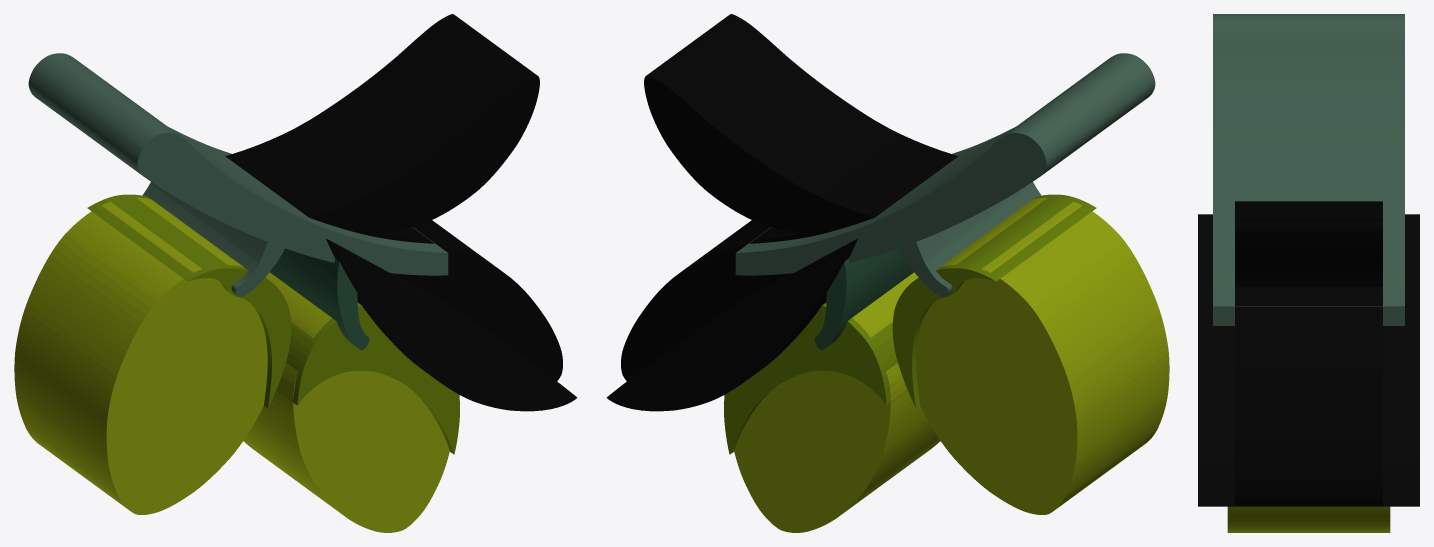
Rendered from U+1FAD2.obj.
The picture shows the model from 3 angles, left to right: view 1: azimuth 30°, elevation 25°; view 2: azimuth 150°, elevation 25°; view 3: azimuth 270°, elevation 25°; orthographic projection. The views are drawn at different scales.
Parts seen in each view (by area): view 1: U+1FAD2_layer01_obj00, U+1FAD2_layer00_obj00, U+1FAD2_layer01_obj01, U+1FAD2_layer03_obj00, U+1FAD2_layer05_obj00, U+1FAD2_layer00_obj01, U+1FAD2_layer02_obj00, U+1FAD2_layer02_obj01, U+1FAD2_layer03_obj01, U+1FAD2_layer04_obj00; view 2: U+1FAD2_layer01_obj00, U+1FAD2_layer00_obj00, U+1FAD2_layer01_obj01, U+1FAD2_layer03_obj00, U+1FAD2_layer05_obj00, U+1FAD2_layer00_obj01, U+1FAD2_layer02_obj00, U+1FAD2_layer02_obj01, U+1FAD2_layer03_obj01, U+1FAD2_layer04_obj00; view 3: U+1FAD2_layer03_obj00, U+1FAD2_layer00_obj01, U+1FAD2_layer05_obj00, U+1FAD2_layer00_obj00, U+1FAD2_layer01_obj01.
Boxes of the visible parts, x1,y1,x2,y2 form: U+1FAD2_layer01_obj00: (14, 197, 267, 514); U+1FAD2_layer00_obj00: (225, 14, 539, 234); U+1FAD2_layer01_obj01: (243, 272, 449, 532); U+1FAD2_layer03_obj00: (28, 53, 448, 275); U+1FAD2_layer05_obj00: (326, 238, 577, 411); U+1FAD2_layer00_obj01: (352, 220, 562, 380); U+1FAD2_layer02_obj00: (276, 303, 459, 454); U+1FAD2_layer02_obj01: (87, 194, 291, 408); U+1FAD2_layer03_obj01: (142, 182, 292, 297); U+1FAD2_layer04_obj00: (270, 248, 369, 349); U+1FAD2_layer01_obj00: (916, 197, 1169, 514); U+1FAD2_layer00_obj00: (644, 14, 958, 234); U+1FAD2_layer01_obj01: (734, 272, 940, 532); U+1FAD2_layer03_obj00: (735, 53, 1155, 275); U+1FAD2_layer05_obj00: (606, 238, 857, 411); U+1FAD2_layer00_obj01: (621, 220, 823, 380); U+1FAD2_layer02_obj00: (724, 303, 907, 454); U+1FAD2_layer02_obj01: (892, 194, 1096, 408); U+1FAD2_layer03_obj01: (891, 182, 1041, 297); U+1FAD2_layer04_obj00: (814, 248, 913, 349); U+1FAD2_layer03_obj00: (1213, 14, 1404, 325); U+1FAD2_layer00_obj01: (1235, 287, 1382, 506); U+1FAD2_layer05_obj00: (1198, 214, 1419, 506); U+1FAD2_layer00_obj00: (1235, 201, 1382, 286); U+1FAD2_layer01_obj01: (1227, 506, 1390, 532).
Size of the model in its own units: 0.3173 by 0.3053 by 0.15.
